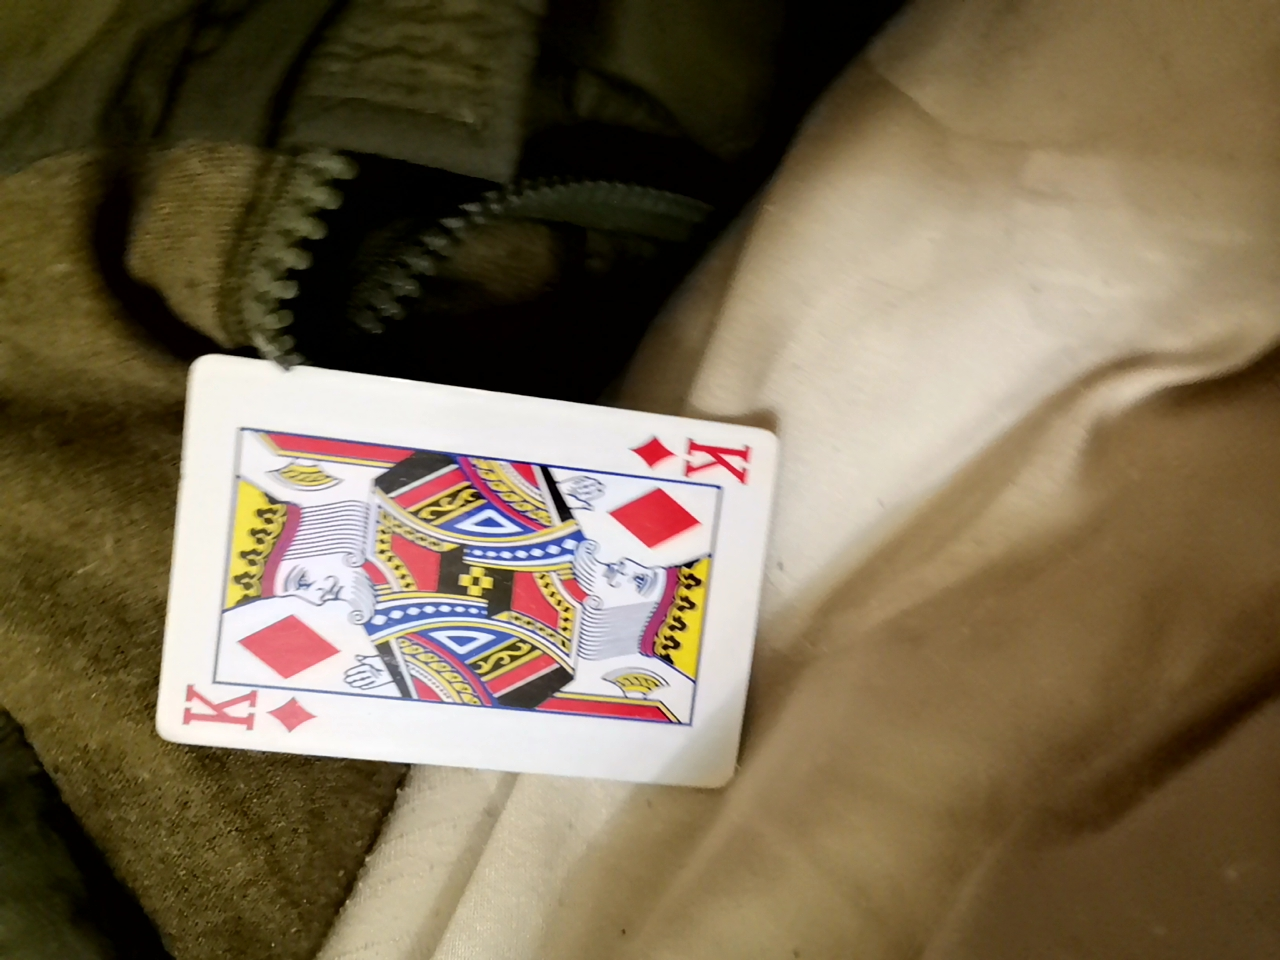fk k: (131, 351, 724, 754)
